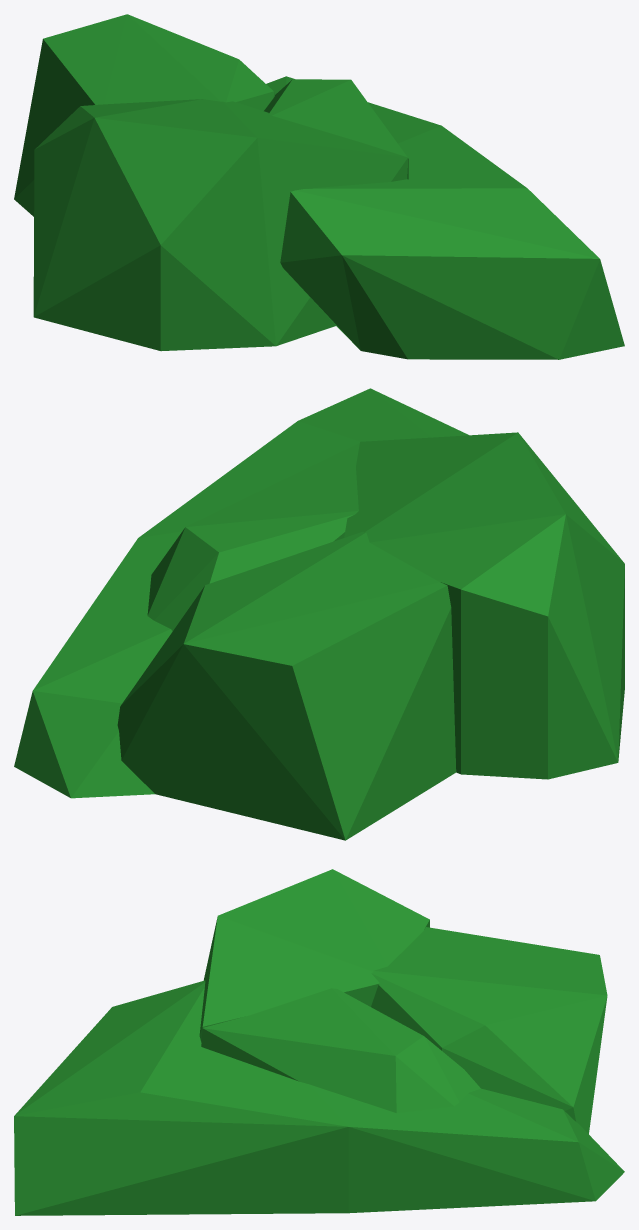
Rendered from Obstacle_05_Colllider_01.FBX.
3 renders of one model, top to bottom at view 1: azimuth 30°, elevation 25°; view 2: azimuth 150°, elevation 25°; view 3: azimuth 270°, elevation 25°, orthographic. The views are drawn at different scales.
Visible parts, largest first — view 1: COLLIDER_1, COLLIDER_4, COLLIDER_2, COLLIDER_3; view 2: COLLIDER_2, COLLIDER_1, COLLIDER_4, COLLIDER_3; view 3: COLLIDER_4, COLLIDER_2, COLLIDER_1, COLLIDER_3.
Part boxes in pixels (bbox=[...]): COLLIDER_1: bbox=[33, 99, 407, 351]; COLLIDER_4: bbox=[266, 76, 624, 359]; COLLIDER_2: bbox=[14, 14, 274, 216]; COLLIDER_3: bbox=[264, 79, 408, 179]; COLLIDER_2: bbox=[117, 531, 456, 840]; COLLIDER_1: bbox=[344, 432, 624, 779]; COLLIDER_4: bbox=[14, 388, 468, 798]; COLLIDER_3: bbox=[147, 443, 359, 630]; COLLIDER_4: bbox=[14, 980, 624, 1215]; COLLIDER_2: bbox=[371, 927, 607, 1133]; COLLIDER_1: bbox=[199, 869, 429, 1042]; COLLIDER_3: bbox=[201, 988, 480, 1113].
Size of the model in its own units: 99.94 by 44.45 by 136.
